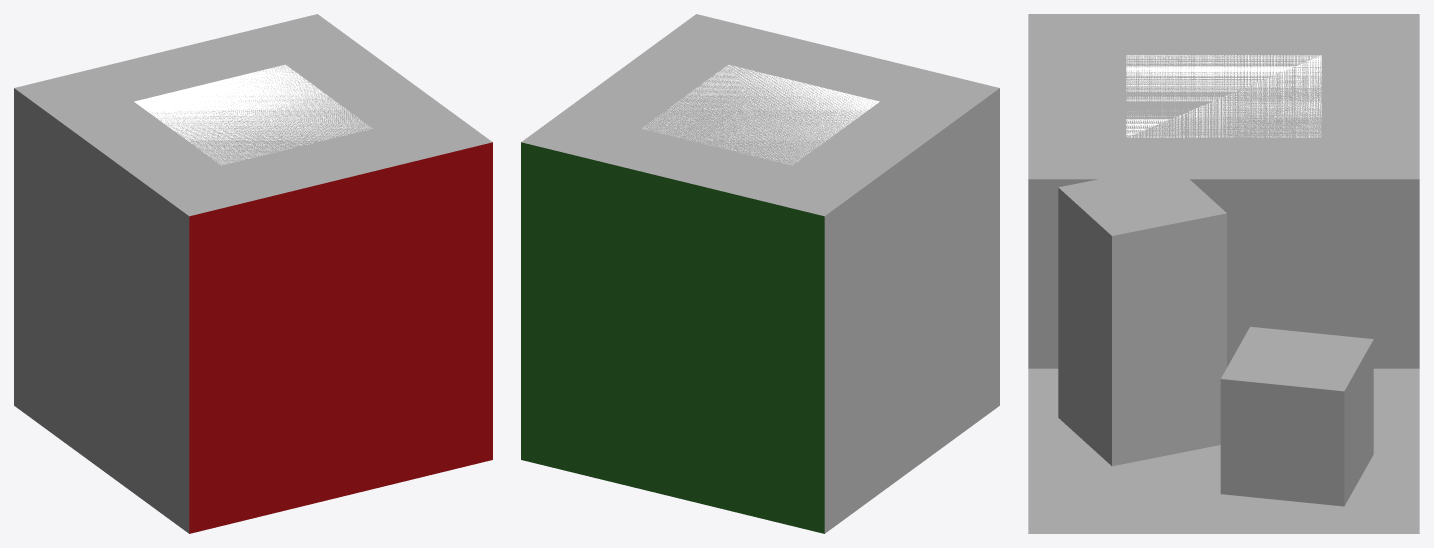
Rendered from cornell_box.glb.
3 views of the same model, side by side, from view 1: azimuth 30°, elevation 25°; view 2: azimuth 150°, elevation 25°; view 3: azimuth 270°, elevation 25° (orthographic). The views are drawn at different scales.
Parts seen in each view (by area): view 1: Plane.001, Plane.004, Plane.003, Plane.005; view 2: Plane.002, Plane.004, Plane.003, Plane.005; view 3: Plane.003, Cube, Plane.004, Plane, Cube.001, Plane.005.
Boxes of the visible parts, x1,y1,x2,y2 form: Plane.001: [189, 142, 492, 533]; Plane.004: [14, 88, 189, 533]; Plane.003: [14, 14, 492, 216]; Plane.005: [134, 64, 372, 165]; Plane.002: [521, 142, 824, 533]; Plane.004: [824, 88, 999, 533]; Plane.003: [521, 14, 999, 216]; Plane.005: [643, 65, 879, 165]; Plane.003: [1028, 14, 1419, 179]; Cube: [1058, 179, 1226, 466]; Plane.004: [1028, 179, 1419, 368]; Plane: [1028, 368, 1419, 533]; Cube.001: [1220, 326, 1373, 506]; Plane.005: [1126, 55, 1321, 137].
Bounding box in the file's own units: 4 × 4 × 4.
